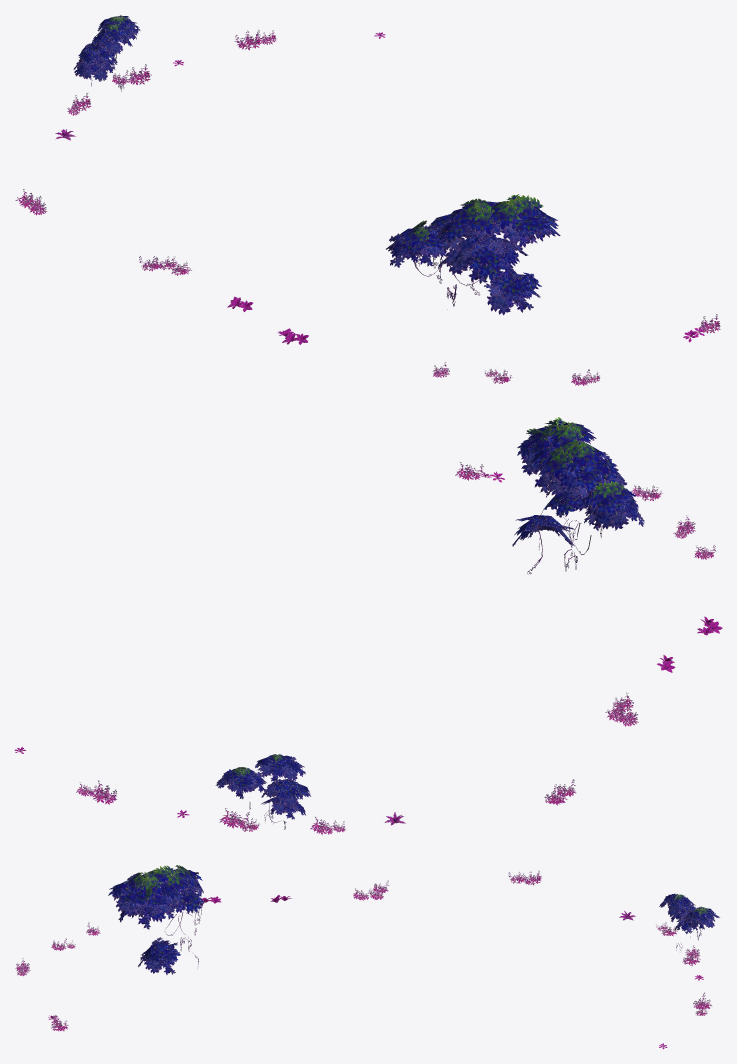
The model's file is zhibei10_1.fbx.
3 views of the same model, one above another, from view 1: azimuth 30°, elevation 25°; view 2: azimuth 150°, elevation 25°; view 3: azimuth 270°, elevation 25° (orthographic). The views are drawn at different scales.
Visible parts, largest first — view 1: zhibei10_1; view 2: zhibei10_1; view 3: zhibei10_1.
Part boxes in pixels (x1,y1,x2,y2): zhibei10_1: [15, 15, 720, 385]; zhibei10_1: [14, 417, 722, 834]; zhibei10_1: [15, 865, 719, 1049].
Size of the model in its own units: 5588 by 1568 by 9623.
